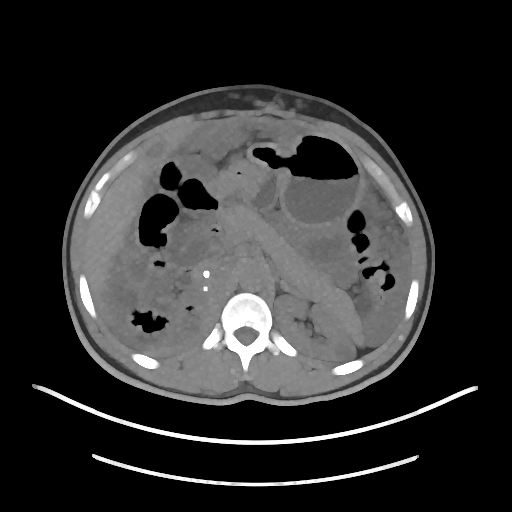Lesion: (329, 335, 360, 363)
